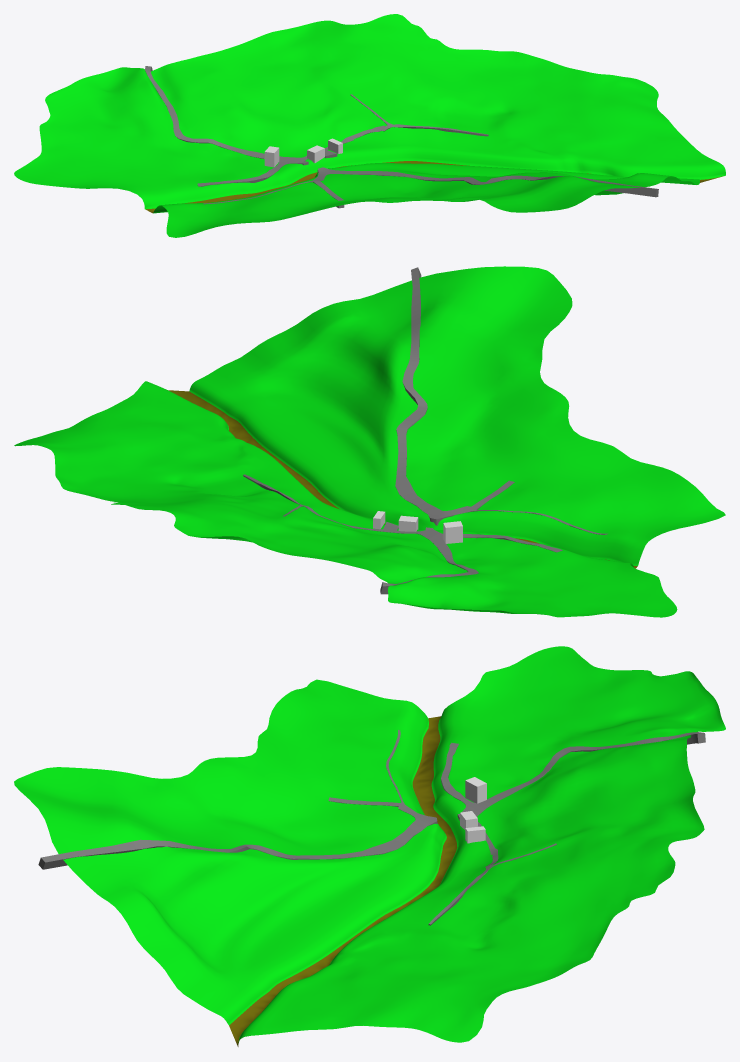
Rendered from SantarRitaV1.fbx.
The picture shows the model from 3 angles, top to bottom: view 1: azimuth 30°, elevation 25°; view 2: azimuth 150°, elevation 25°; view 3: azimuth 270°, elevation 25°; orthographic projection. The views are drawn at different scales.
Parts seen in each view (by area): view 1: Terreno, Camino, referencia casas; view 2: Terreno, Camino, referencia casas; view 3: Terreno, Camino, referencia casas.
Part boxes in pixels (x1=…): Terreno: x1=14, y1=14, x2=725, y2=237; Camino: x1=145, y1=66, x2=658, y2=208; referencia casas: x1=264, y1=138, x2=342, y2=167; Terreno: x1=14, y1=266, x2=725, y2=617; Camino: x1=243, y1=267, x2=607, y2=594; referencia casas: x1=373, y1=511, x2=462, y2=543; Terreno: x1=14, y1=646, x2=725, y2=1046; Camino: x1=38, y1=730, x2=705, y2=925; referencia casas: x1=460, y1=777, x2=486, y2=843.
Size of the model in its own units: 36929 by 5632 by 30896.
